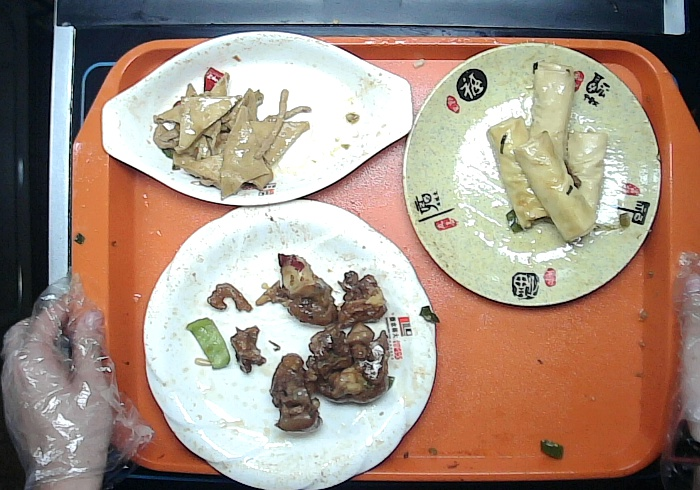NLDX-Bai_Zhe_Yuan_Pan: (140, 198, 445, 490)
NLDX-Fu_Zi_Yuan_Pan: (402, 38, 664, 306)
NLDX-Yu_Pan: (99, 28, 415, 205)
